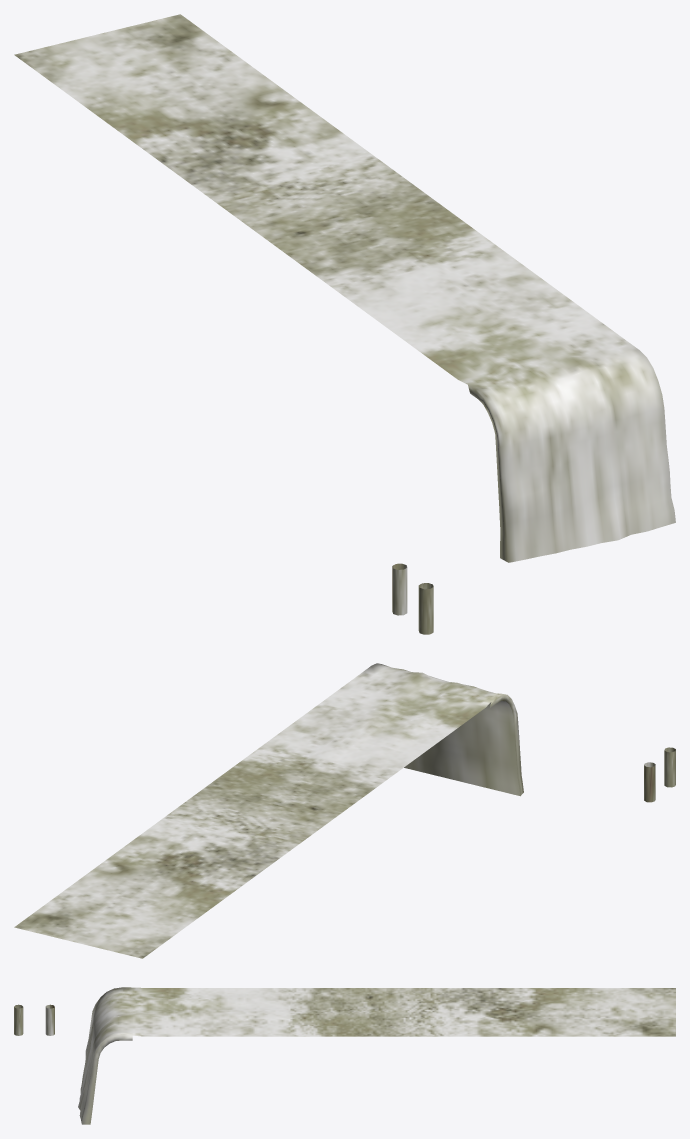
Rendered from waterFallSewage.fbx.
3 renders of one model, top to bottom at view 1: azimuth 30°, elevation 25°; view 2: azimuth 150°, elevation 25°; view 3: azimuth 270°, elevation 25°, orthographic. The views are drawn at different scales.
Parts seen in each view (by area): view 1: sewage; view 2: sewage; view 3: sewage.
Boxes of the visible parts, box(x1,y1,x2,y2) form: sewage: box(14, 14, 675, 634); sewage: box(14, 663, 675, 958); sewage: box(14, 987, 675, 1124).
Bounding box in the file's own units: 11.1 × 5.15 × 34.3.
1 material, 1 textured.
